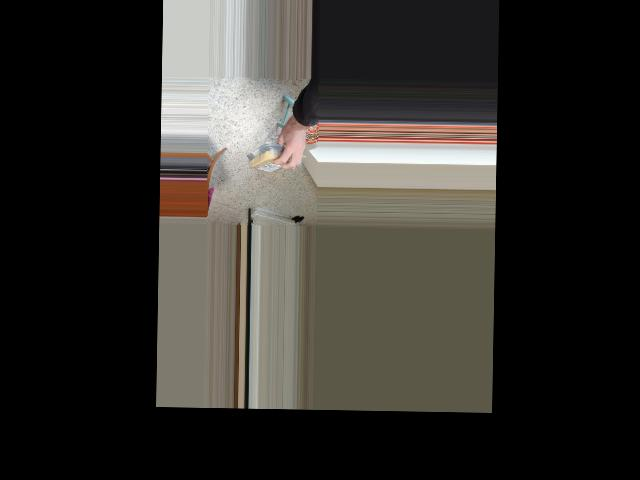cheese: (245, 141, 298, 175)
